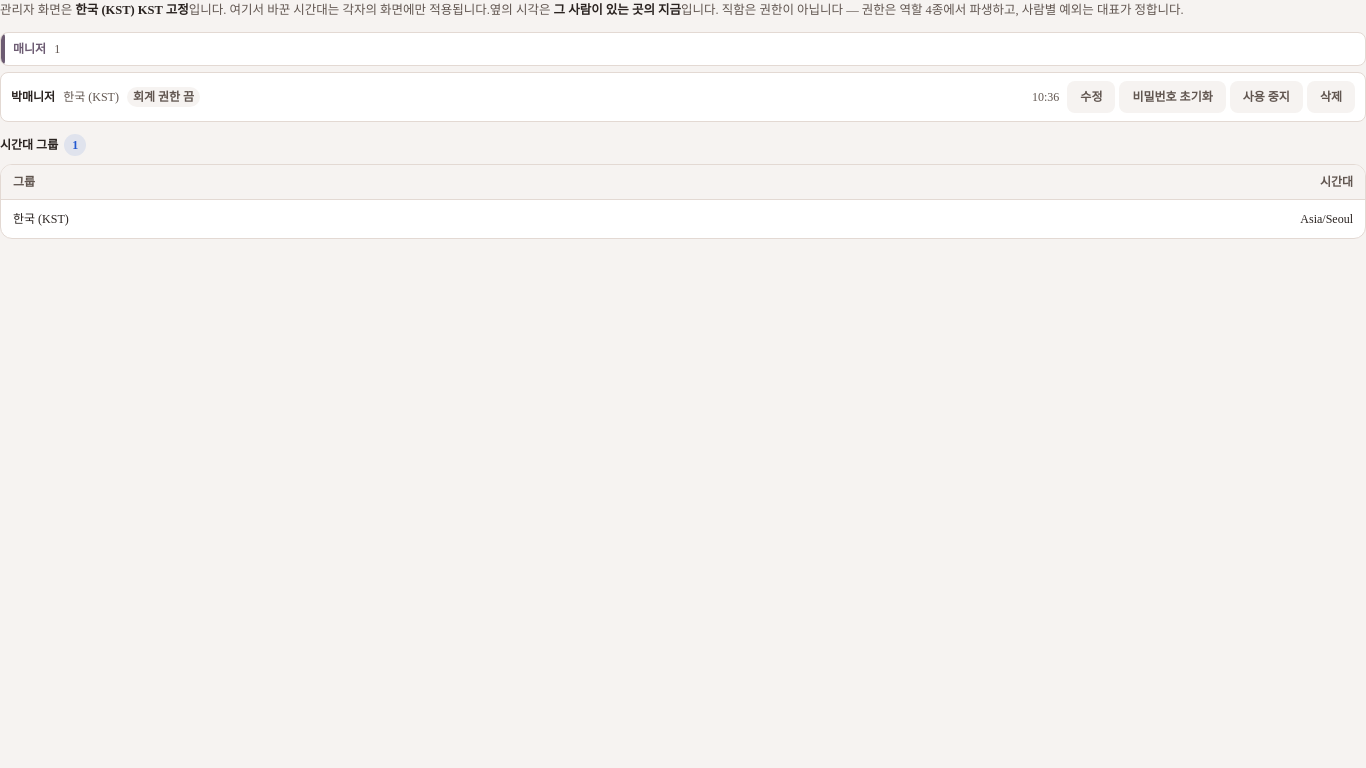
Scenario: §17 사람별 권한 예외 (N-68) › 올릴 수 없는 권한을 켜면 서버의 거절 문장이 창 안에 그대로 남는다
The image size is (1366, 768).
What coordinates should you click on to do the following:
click the button "수정"
I would click on:
 (1091, 97)
Its box is [1067, 81, 1116, 113].
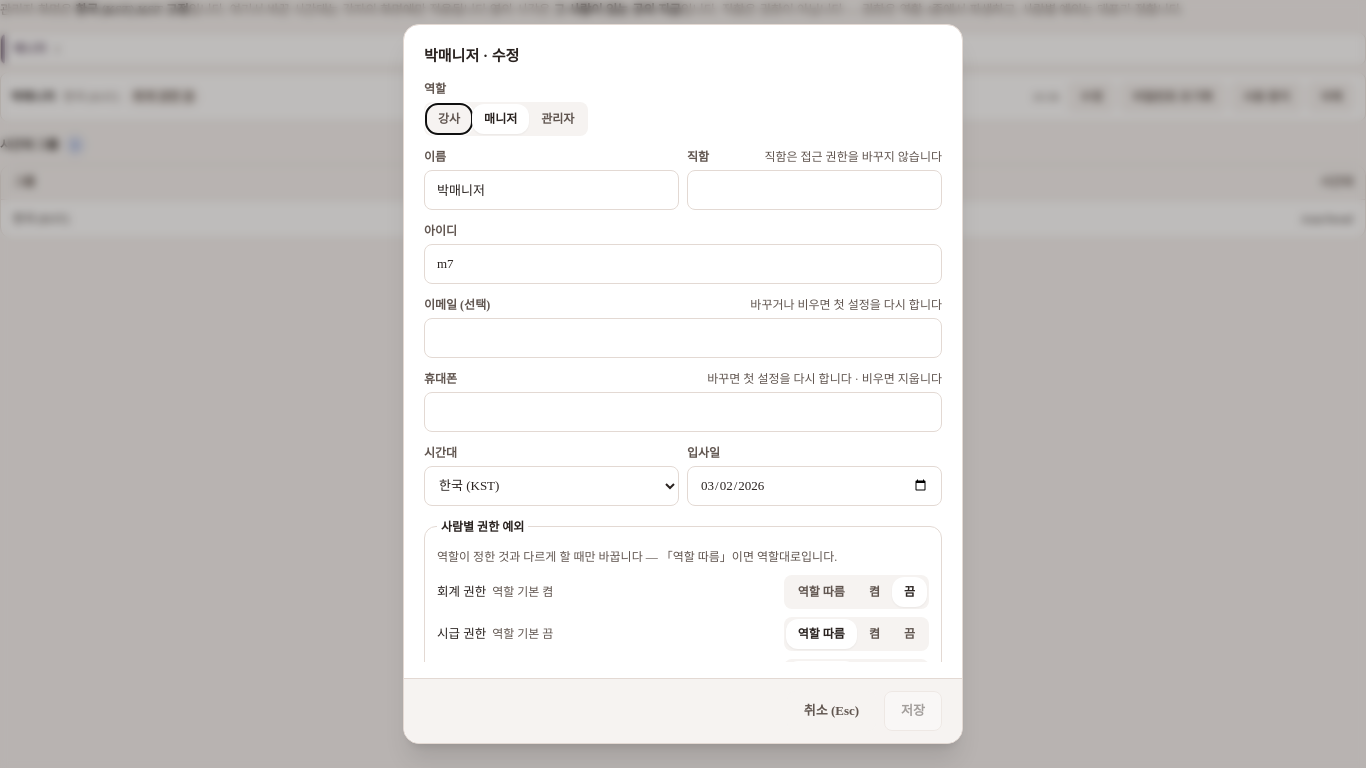
What coordinates should you click on to do the following:
click the button "켬" in the row of "시급 권한"
I would click on:
 (874, 634)
Its box is [857, 619, 892, 649].
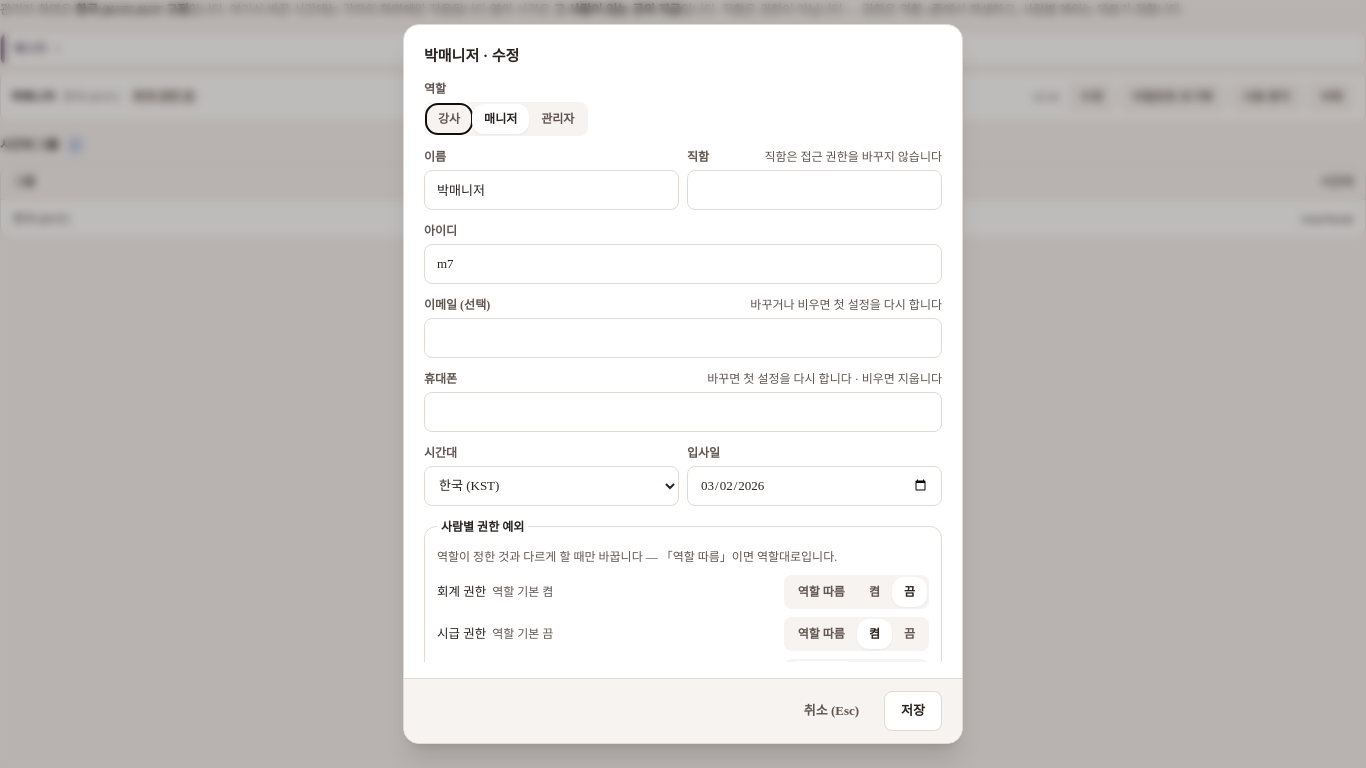
What coordinates should you click on to do the following:
click the button "저장"
I would click on:
 (913, 711)
Its box is [884, 691, 942, 731].
(page scrolled)
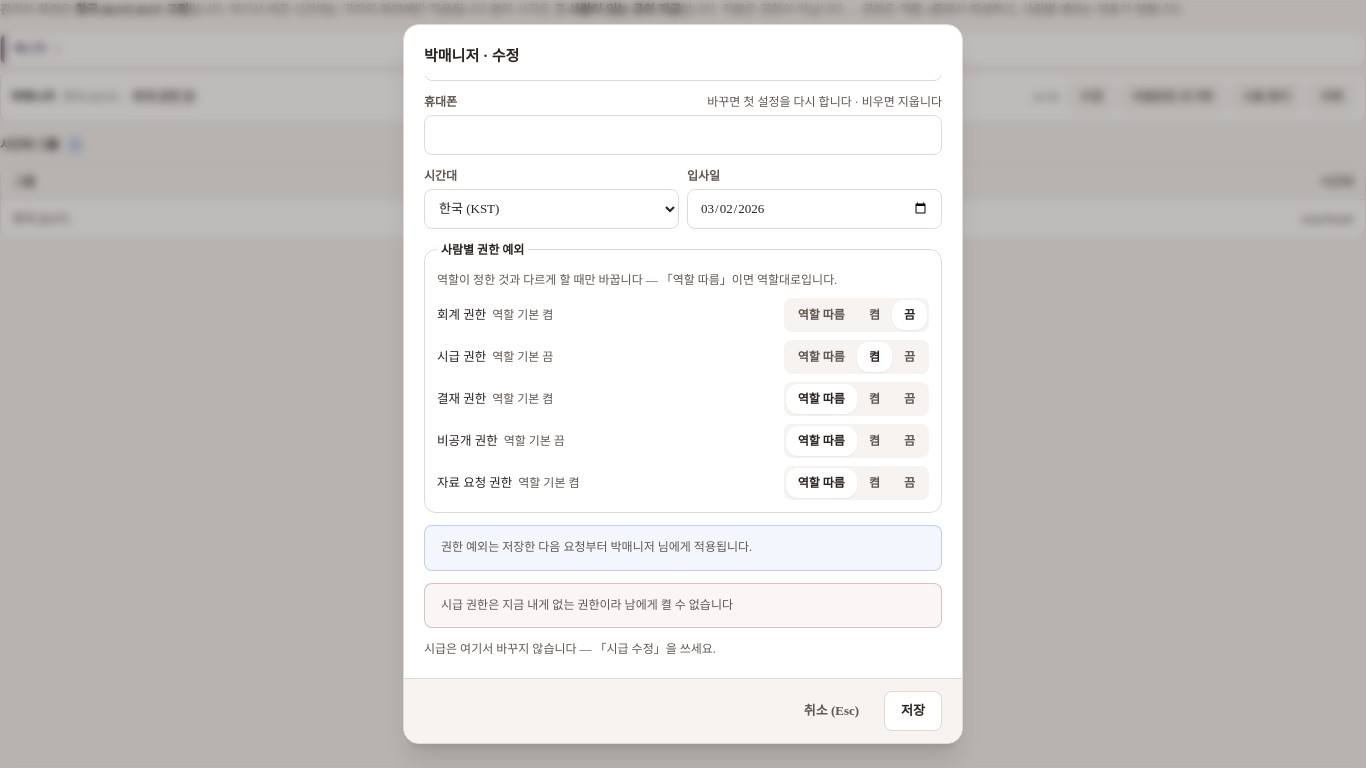
Check: the text "시급 권한은 지금 내게 없는 권한이라 남에게 켤 수 없습니다" is shown, box [424, 582, 942, 628]
